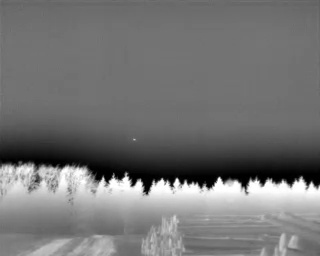AIRPLANE: (131, 136, 138, 143)
